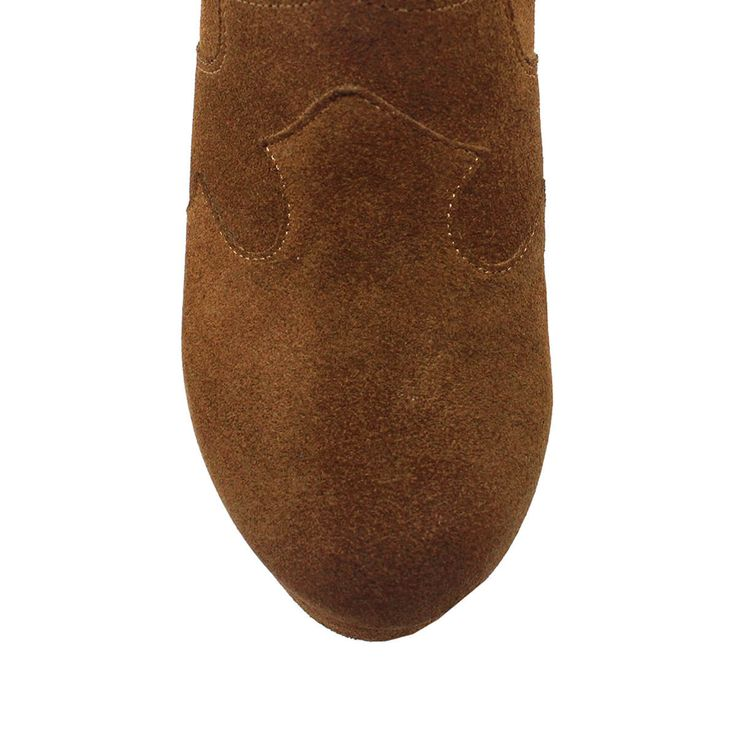gamuza: (182, 1, 554, 642)
